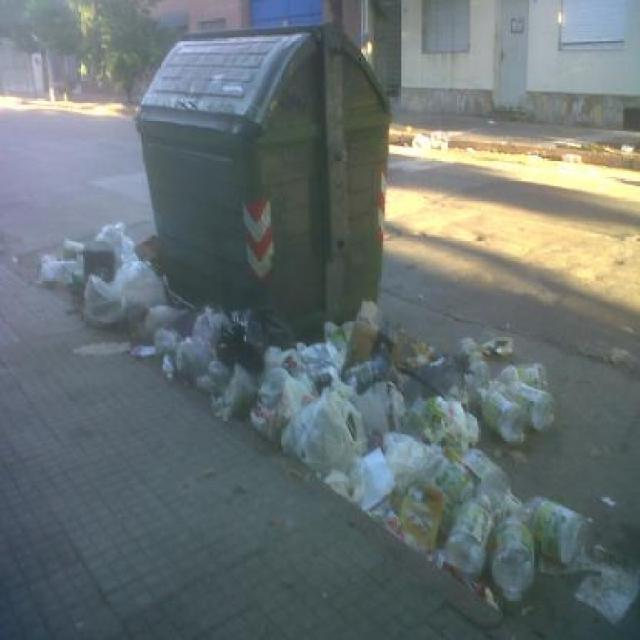garbage: (314, 357, 571, 620), (152, 318, 413, 430), (41, 223, 164, 352)
